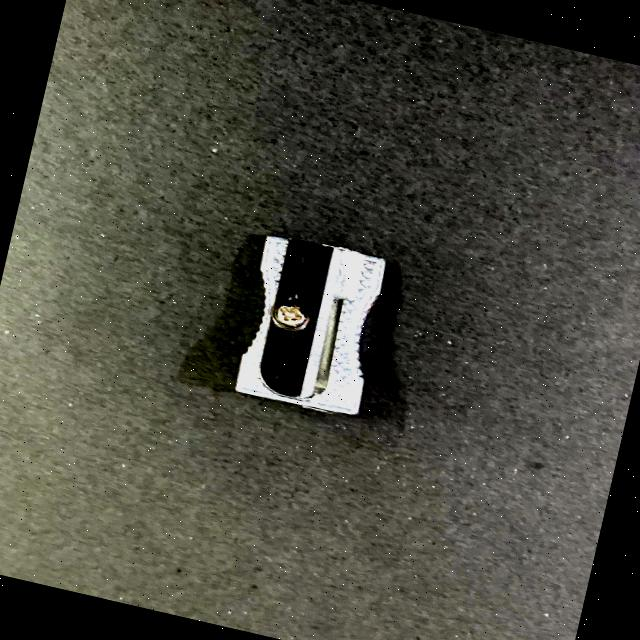Sharpner: (197, 200, 439, 454)
